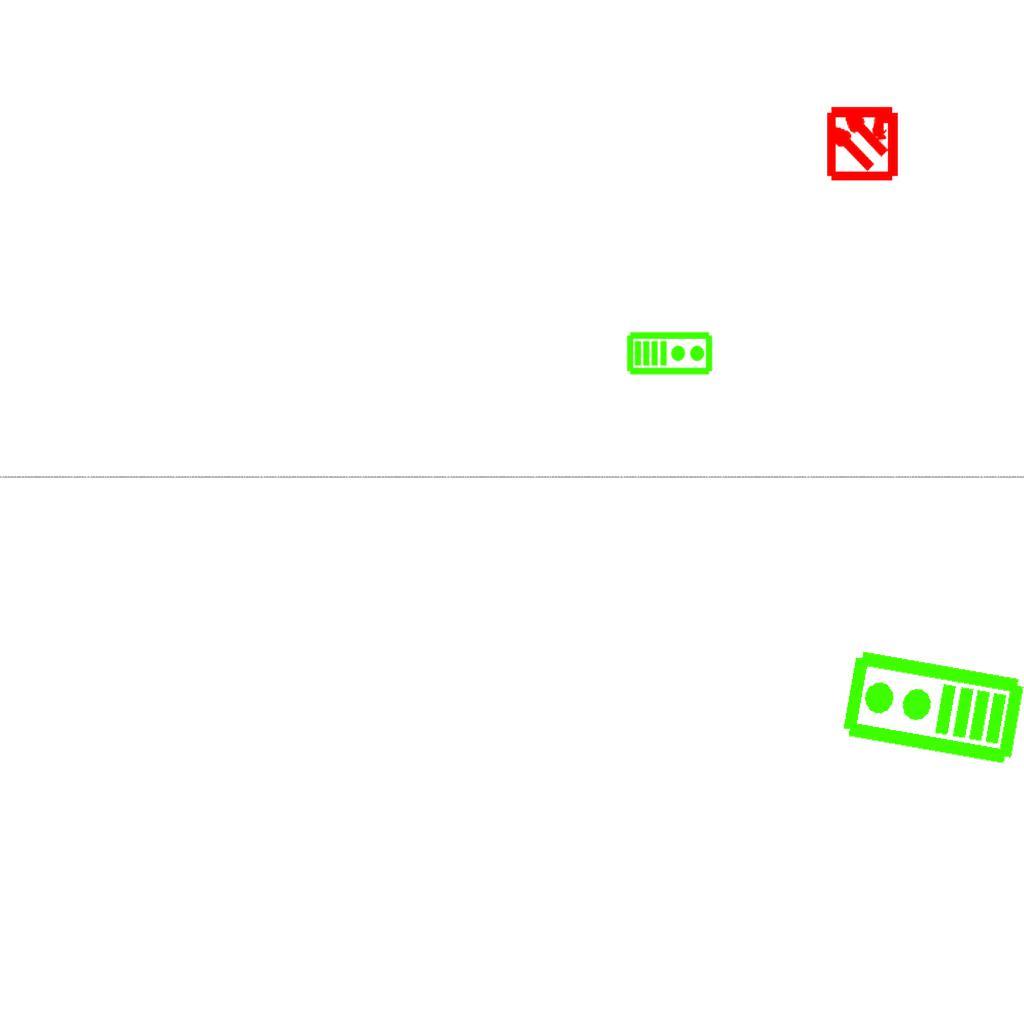Gegensprechanlage_mit_Video: (837, 646, 1024, 772), (626, 329, 714, 376)
OT_Multisensormelder_(Kombination_RMO_WMD): (806, 85, 919, 198)
